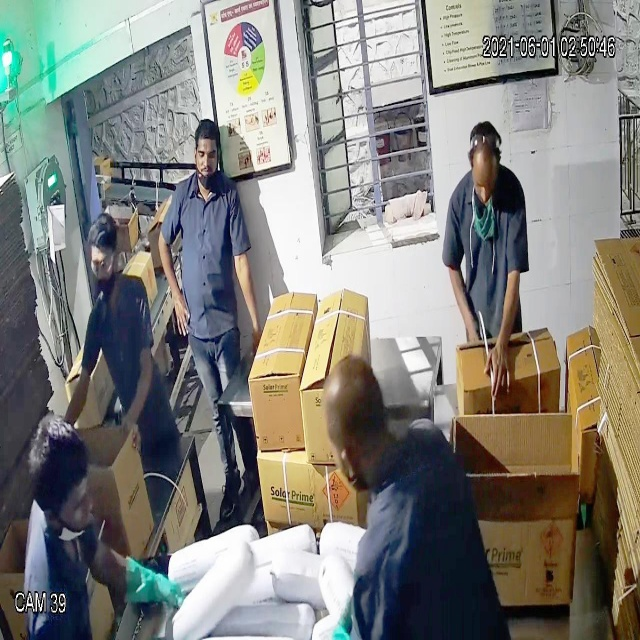Gafas: (86, 248, 124, 284)
Sin_gafas: (186, 134, 222, 172)
